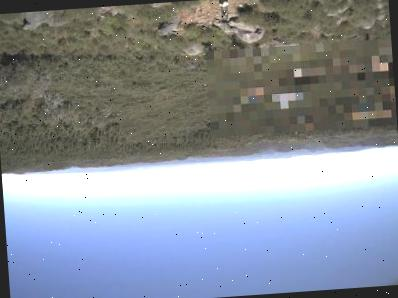smoke: (118, 167, 138, 182)
